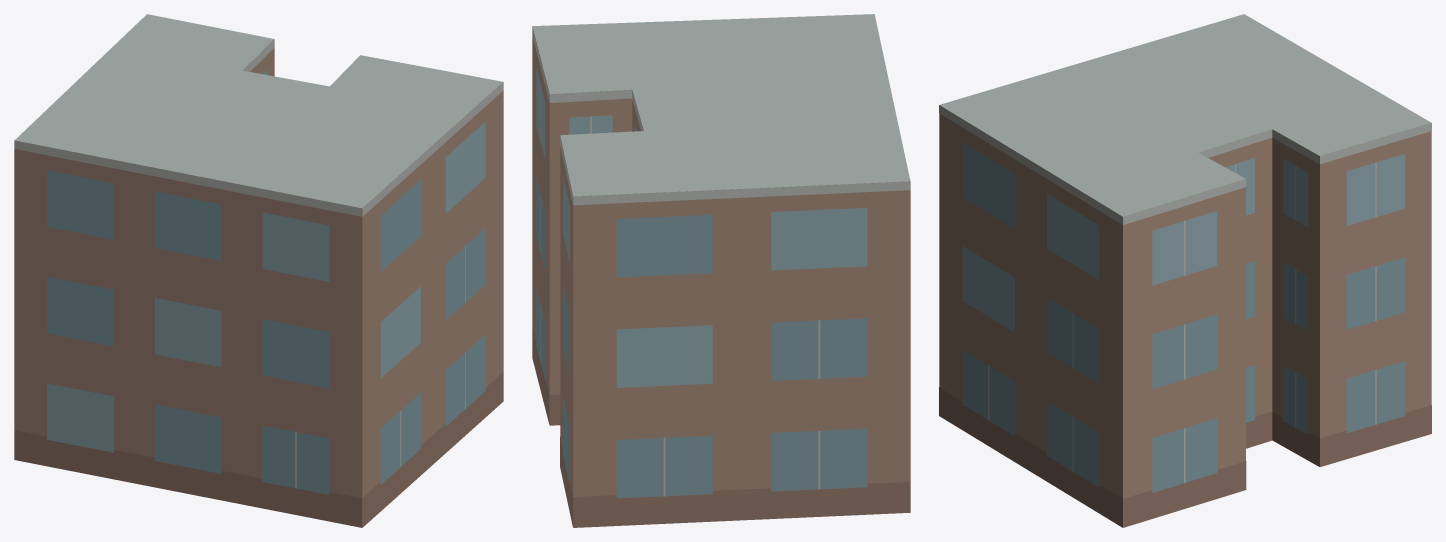
The model's file is survey-upis-32719411.glb.
The picture shows the model from 3 angles, left to right: view 1: azimuth 30°, elevation 25°; view 2: azimuth 150°, elevation 25°; view 3: azimuth 270°, elevation 25°; orthographic projection. The views are drawn at different scales.
Visible parts, largest first — view 1: survey-upis-32719411.tmp; view 2: survey-upis-32719411.tmp; view 3: survey-upis-32719411.tmp.
Part boxes in pixels (left/top/right/bottom): survey-upis-32719411.tmp: left=14, top=14, right=503, bottom=527; survey-upis-32719411.tmp: left=532, top=14, right=910, bottom=527; survey-upis-32719411.tmp: left=939, top=14, right=1431, bottom=527.
Bounding box in the file's own units: 12.8 × 9.15 × 13.14.
